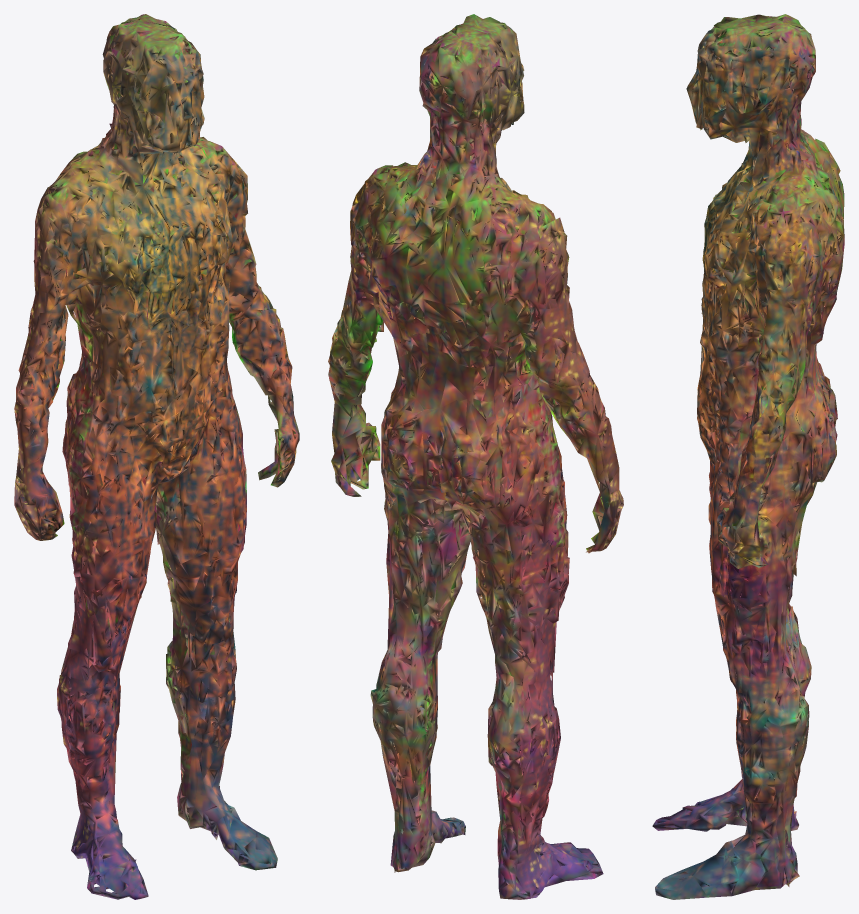
The model's file is ModelBlender_Avatar_abstracto.glb.
3 renders of one model, left to right at view 1: azimuth 30°, elevation 25°; view 2: azimuth 150°, elevation 25°; view 3: azimuth 270°, elevation 25°, orthographic. The views are drawn at different scales.
Size of the model in its own units: 0.6951 by 1.98 by 0.4125.
Materials: 1 (1 with a texture image).
